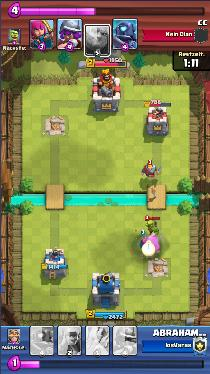EBrawler: (146, 215, 159, 234)
EKingTower: (92, 69, 119, 111)
EKnight: (141, 160, 160, 179)
EnemyPrincessTower: (146, 100, 170, 134)
OArcher: (140, 236, 147, 248)
OwnKingTower: (92, 272, 118, 305)
OwnPrincessTower: (41, 249, 67, 278)
TowerDown: (41, 115, 69, 138), (145, 258, 172, 280)
